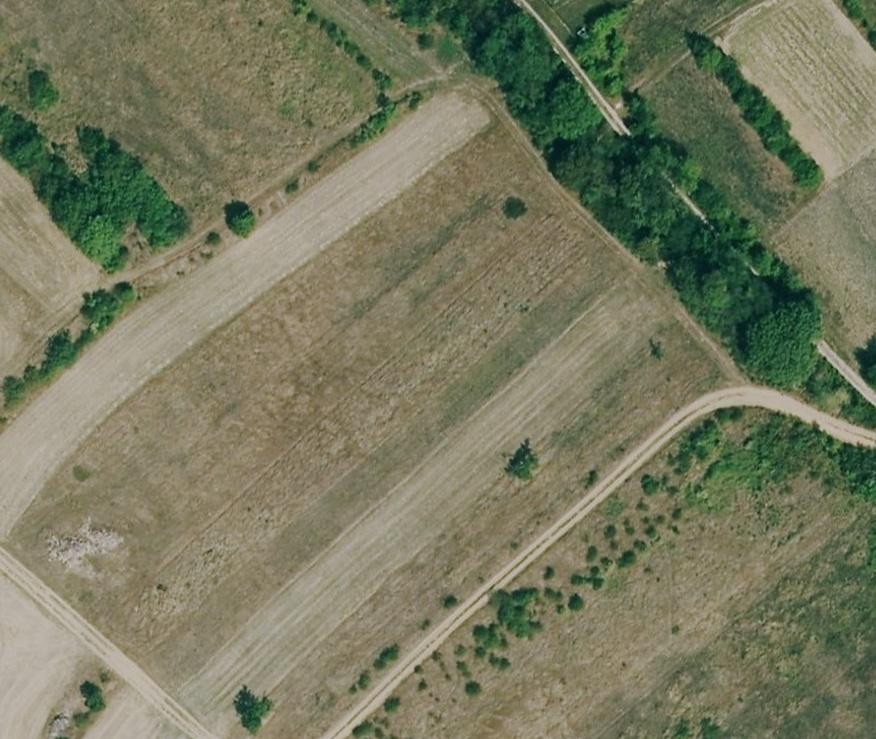field: (7, 118, 741, 736), (0, 91, 489, 538), (327, 387, 876, 737), (354, 411, 876, 738), (0, 2, 378, 232), (717, 2, 876, 357), (0, 547, 216, 738), (642, 56, 813, 238), (717, 0, 876, 181), (0, 575, 91, 737), (621, 1, 749, 86), (84, 686, 186, 739)
forest: (399, 0, 820, 388), (0, 106, 188, 271), (686, 31, 823, 190), (573, 5, 627, 96)
